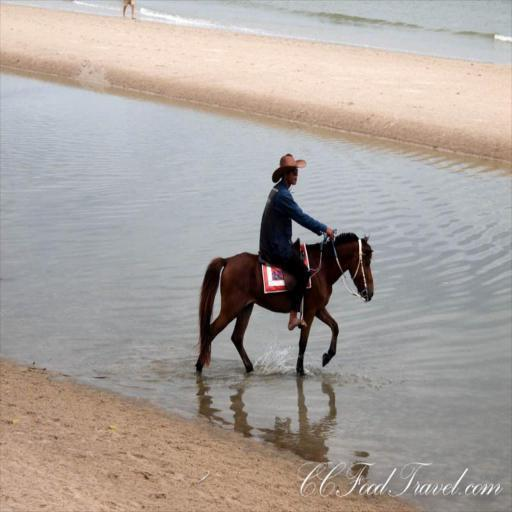horse: (192, 231, 376, 373)
